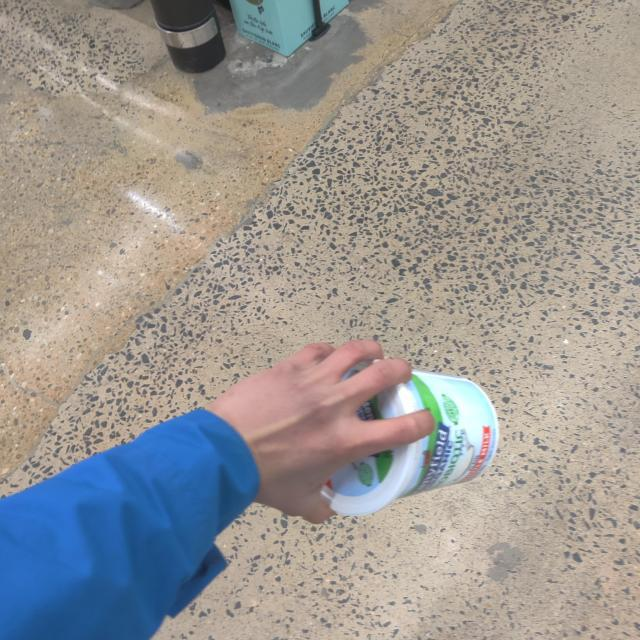Yoghurt: (286, 348, 518, 517)
